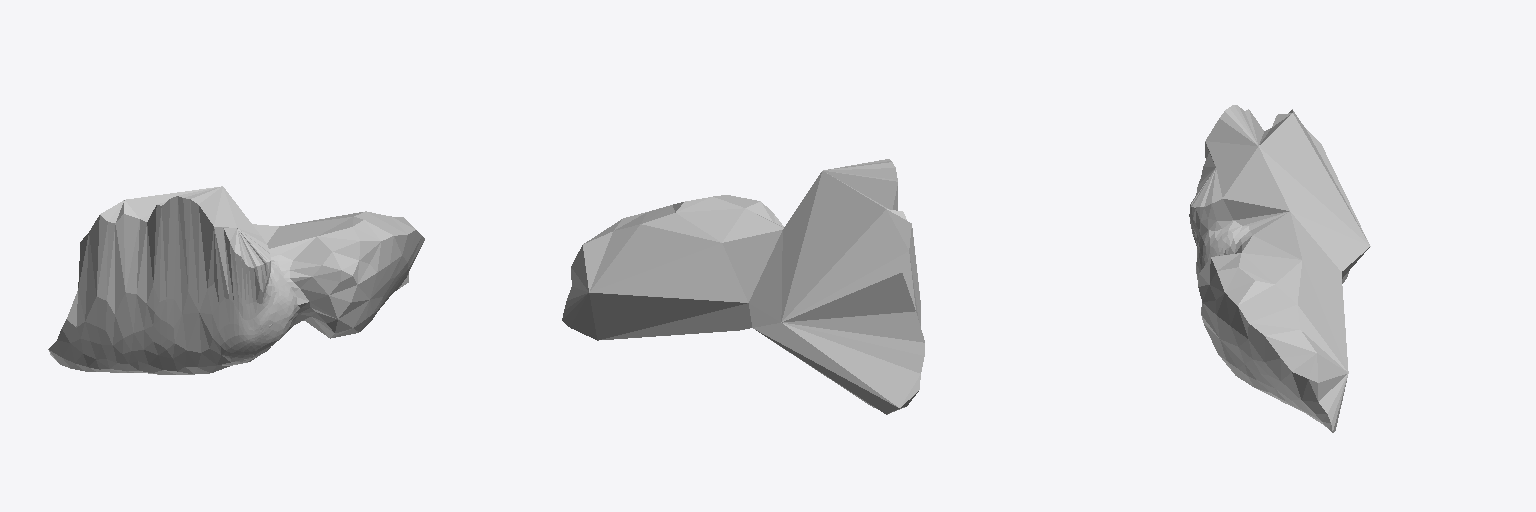
File: cleftAlveoliIncompleteLevelset.obj
3 renders of one model, left to right at view 1: azimuth 30°, elevation 25°; view 2: azimuth 150°, elevation 25°; view 3: azimuth 270°, elevation 25°, orthographic.
Size of the model in its own units: 1.41 by 0.7645 by 0.6162.